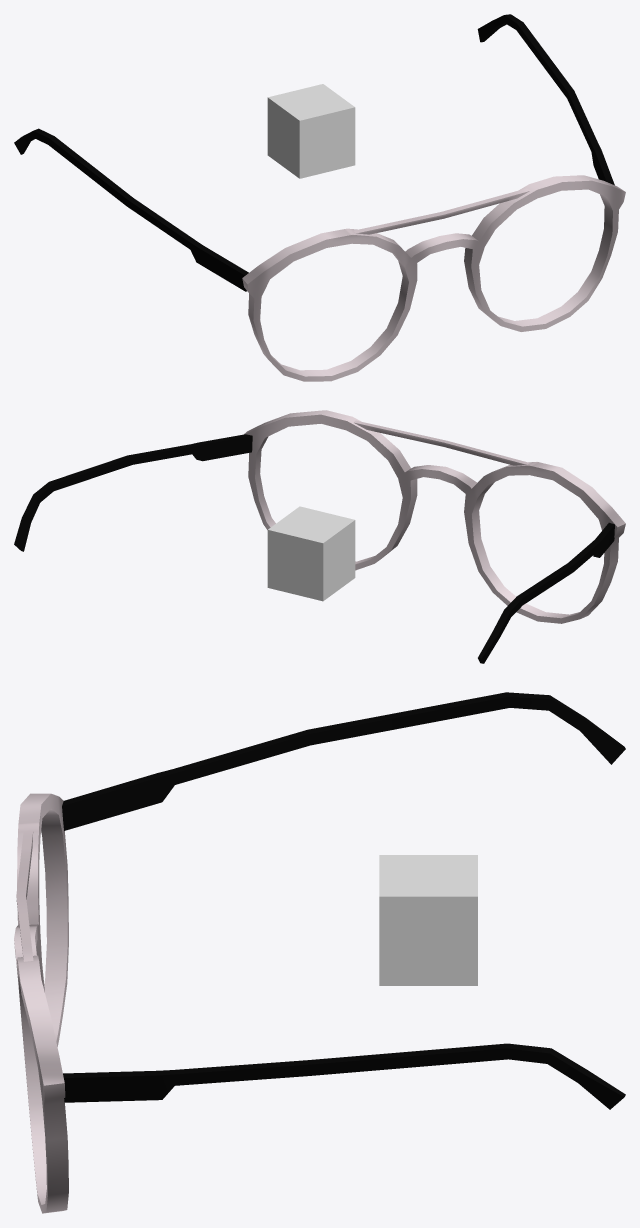
Rendered from boy_glasses6.FBX.
3 views of the same model, one above another, from view 1: azimuth 30°, elevation 25°; view 2: azimuth 150°, elevation 25°; view 3: azimuth 270°, elevation 25° (orthographic). The views are drawn at different scales.
Visible parts, largest first — view 1: boy_glasses11, faceSpawn; view 2: boy_glasses11, faceSpawn; view 3: boy_glasses11, faceSpawn.
Part boxes in pixels (left/top/right/bottom): boy_glasses11: left=14, top=14, right=625, bottom=381; faceSpawn: left=267, top=84, right=355, bottom=178; boy_glasses11: left=14, top=410, right=625, bottom=663; faceSpawn: left=267, top=506, right=355, bottom=601; boy_glasses11: left=14, top=692, right=625, bottom=1213; faceSpawn: left=379, top=855, right=477, bottom=985.
Size of the model in its own units: 43.03 by 14.07 by 31.06.
